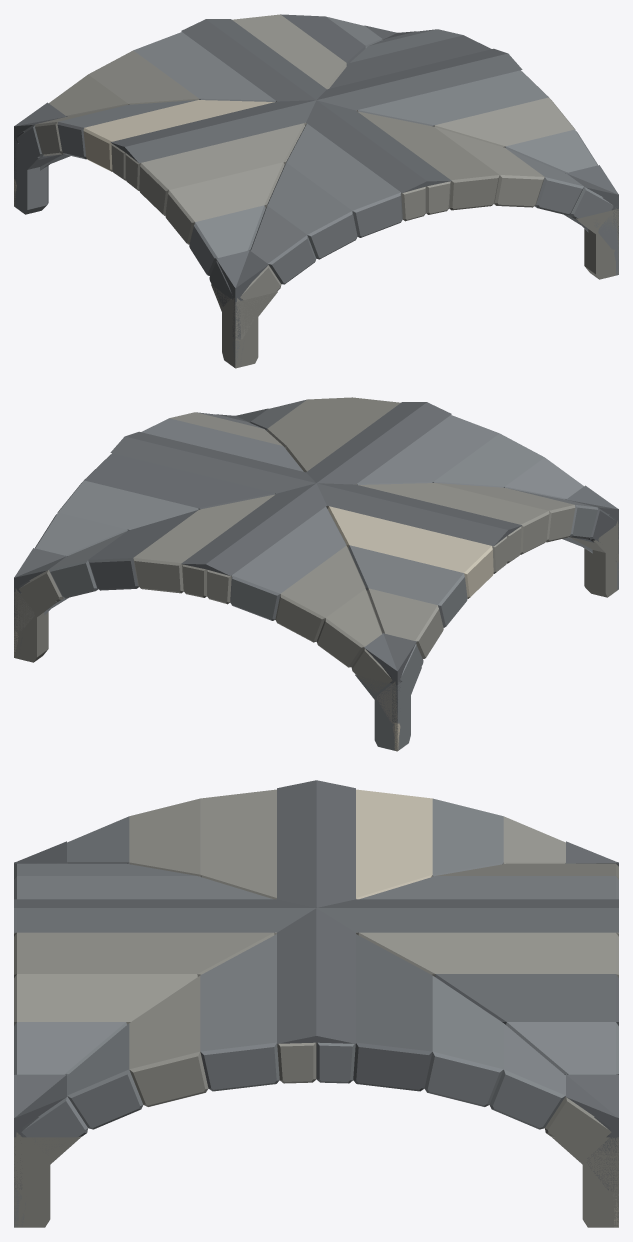
File: SM_LPD_Struct_CeilGroinPlain_01.fbx
3 renders of one model, top to bottom at view 1: azimuth 30°, elevation 25°; view 2: azimuth 150°, elevation 25°; view 3: azimuth 270°, elevation 25°, orthographic. The views are drawn at different scales.
Parts seen in each view (by area): view 1: SM_LPD_Struct_CeilGroinPlain_01; view 2: SM_LPD_Struct_CeilGroinPlain_01; view 3: SM_LPD_Struct_CeilGroinPlain_01.
Boxes of the visible parts, x1,y1,x2,y2 form: SM_LPD_Struct_CeilGroinPlain_01: (14,14,618,368); SM_LPD_Struct_CeilGroinPlain_01: (14,397,618,751); SM_LPD_Struct_CeilGroinPlain_01: (14,780,618,1227).
Bounding box in the file's own units: 4 × 1.4 × 4.
